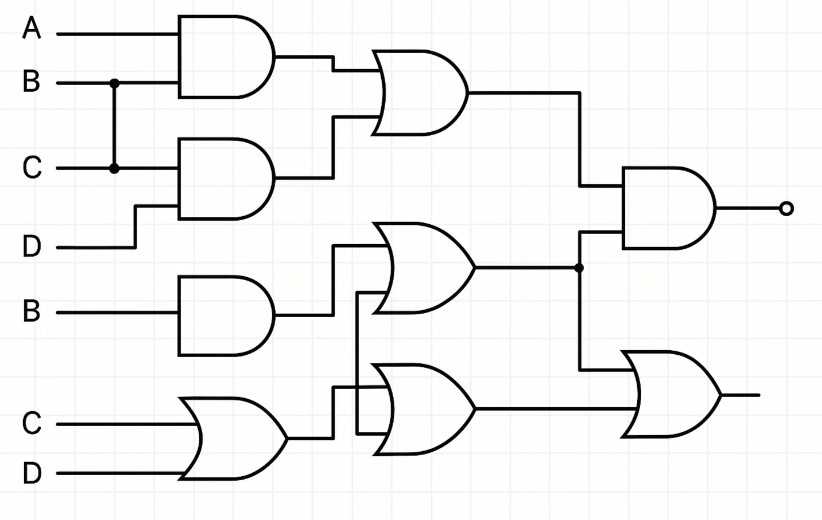and gate: (172, 10, 282, 105), (617, 160, 723, 257), (173, 134, 282, 225), (173, 272, 280, 361)
or gate: (368, 219, 481, 322), (366, 360, 483, 459), (171, 392, 295, 484), (614, 346, 728, 442), (365, 45, 478, 139)
